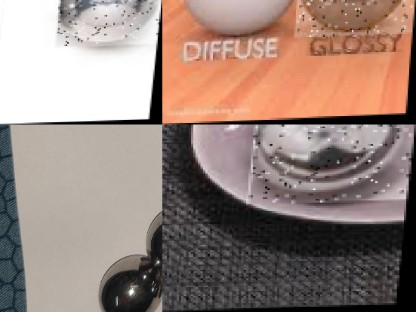ironball: (248, 124, 415, 205), (55, 0, 162, 47), (294, 0, 415, 39), (98, 254, 164, 310), (140, 207, 164, 261)
